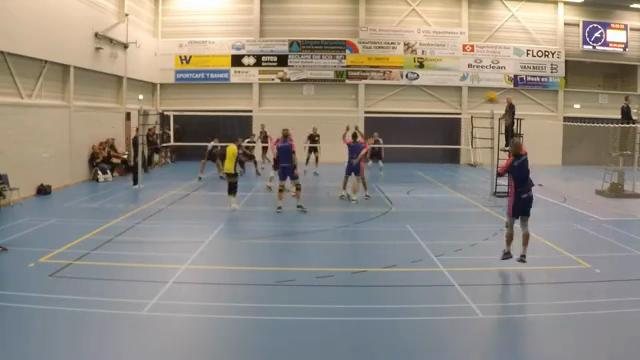battuta: (490, 133, 535, 269)
